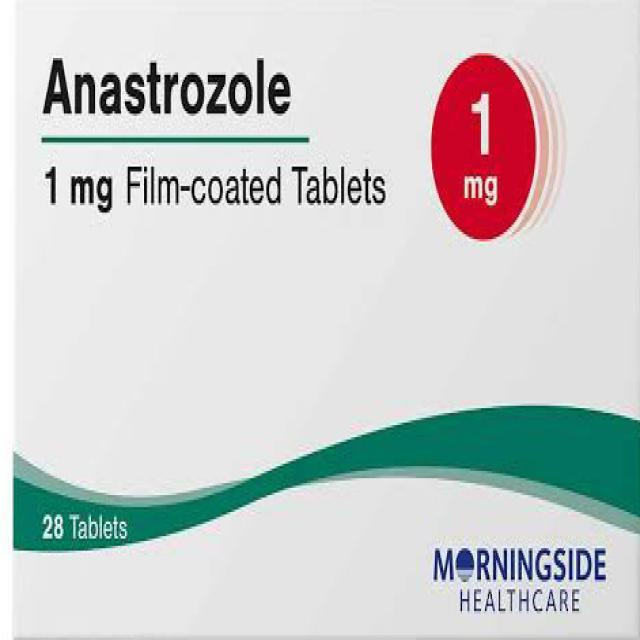drug-name: (38, 54, 302, 124)
